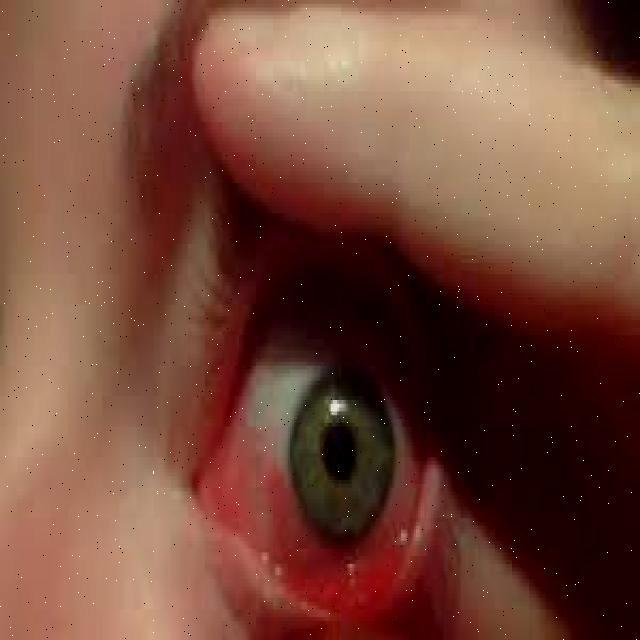Conjunctivitis: (192, 394, 396, 560)
